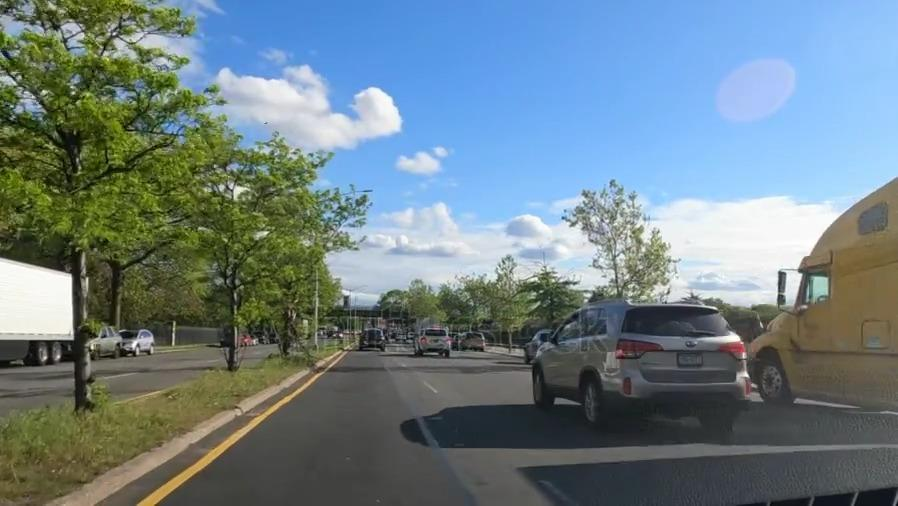car: (535, 308, 747, 420), (86, 322, 121, 359), (120, 328, 153, 357), (416, 329, 448, 354), (523, 331, 544, 361), (462, 331, 485, 354), (360, 328, 385, 349)
truck: (755, 203, 898, 408), (2, 256, 72, 371)
